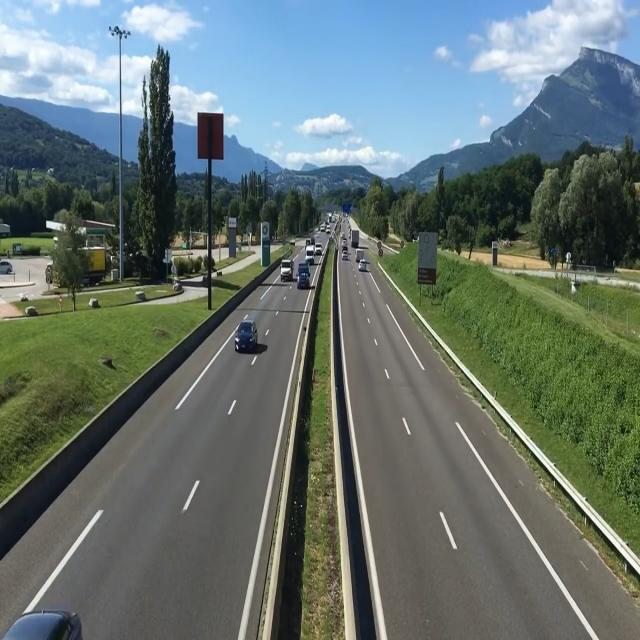car: (0, 600, 82, 640), (232, 313, 264, 355), (295, 264, 312, 293), (280, 256, 295, 284), (357, 256, 369, 276)
